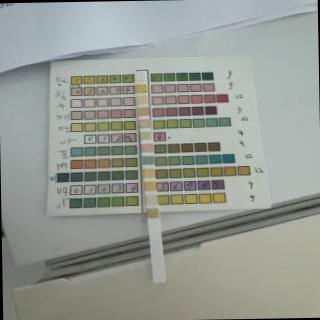mark: (144, 180, 156, 190), (143, 155, 154, 165), (140, 131, 152, 140), (148, 208, 158, 218), (144, 167, 154, 177), (142, 143, 153, 152), (138, 107, 149, 116), (137, 96, 148, 105), (146, 195, 156, 204), (140, 119, 150, 128), (137, 84, 147, 93), (136, 73, 147, 81)
